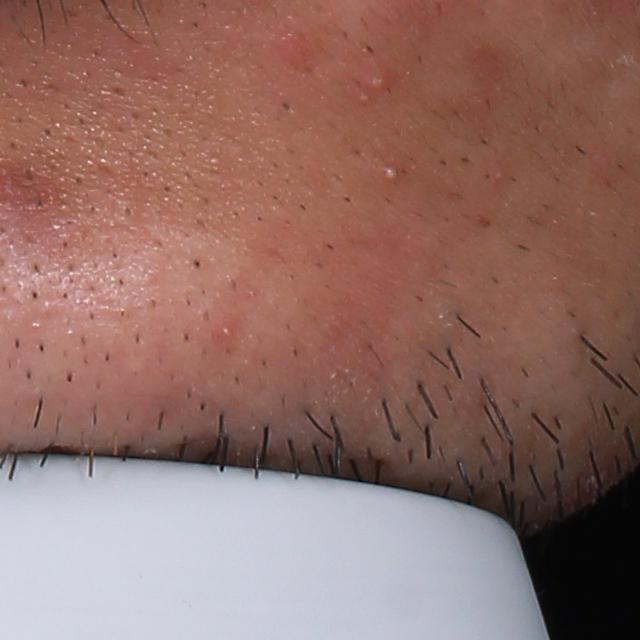pustule: (361, 68, 391, 95), (378, 157, 406, 185)
